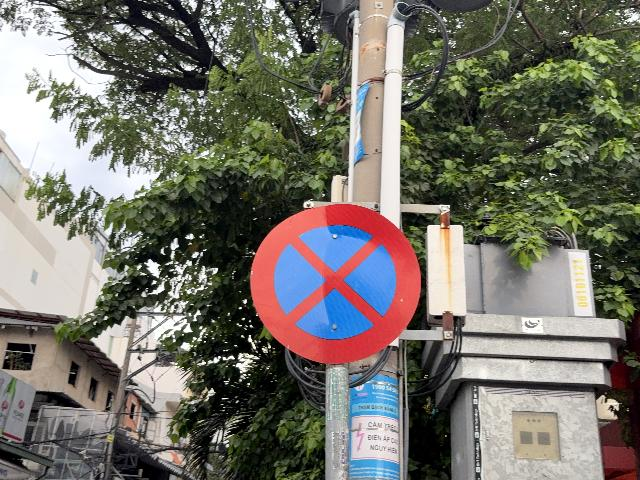cam-dung-va-do-xe: (250, 202, 422, 365)
